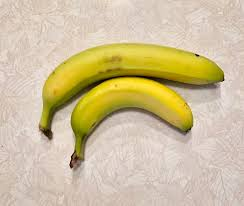banana: (36, 40, 224, 170)
